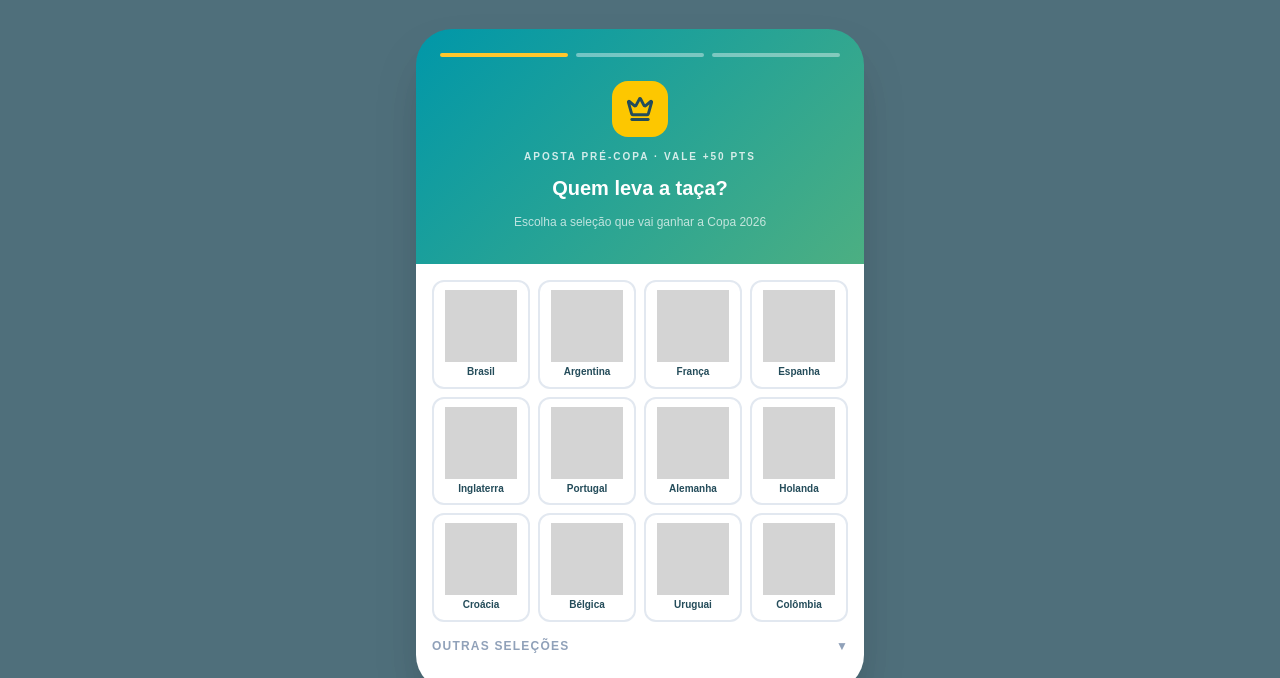
Test: PreCopaBetModal › after selecting champion and clicking CTA, step 2 renders "E o vice-campeão?"
The image size is (1280, 678).
Click the button with test id "team-card-br": (481, 335) [432,280,530,389]
(page scrolled)
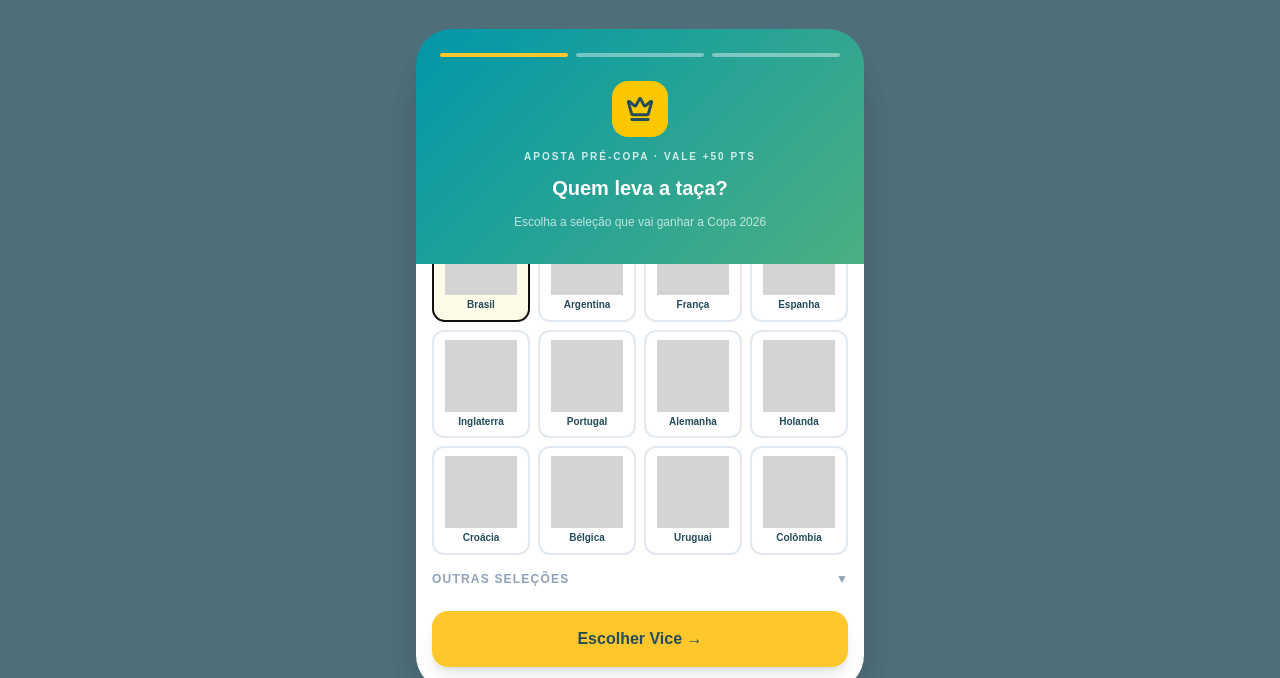
Click the button "Escolher Vice →": (640, 639) [432,611,848,667]
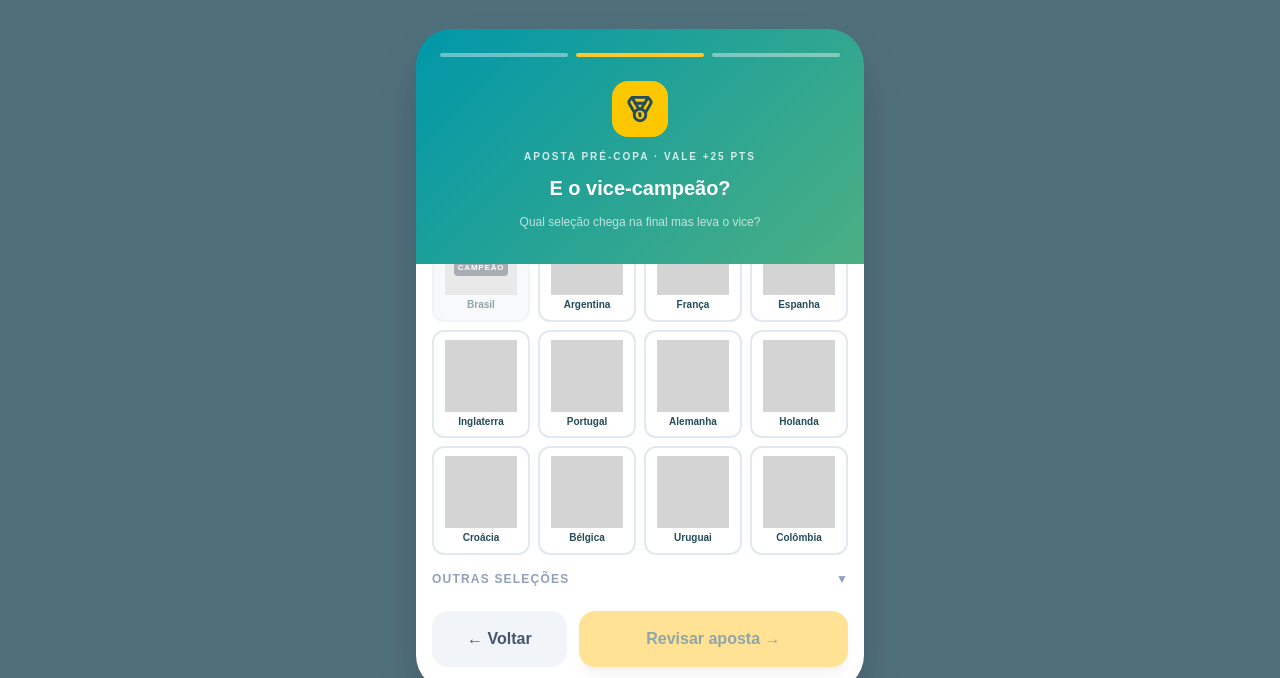
Expected: the heading "E o vice-campeão?" is shown, [549,176,731,201]
